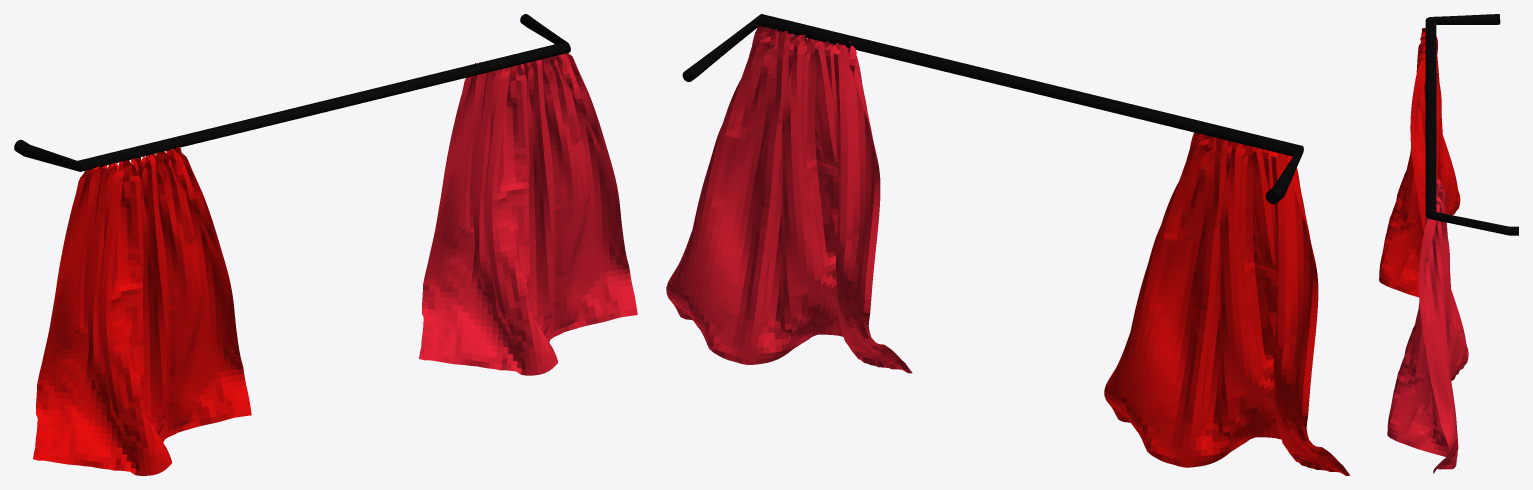
The model's file is PERDE 1.fbx.
3 views of the same model, side by side, from view 1: azimuth 30°, elevation 25°; view 2: azimuth 150°, elevation 25°; view 3: azimuth 270°, elevation 25° (orthographic). The views are drawn at different scales.
Visible parts, largest first — view 1: printvertexes; view 2: printvertexes; view 3: printvertexes.
Part boxes in pixels (bbox=[...]): printvertexes: bbox=[14, 14, 637, 475]; printvertexes: bbox=[666, 14, 1350, 475]; printvertexes: bbox=[1379, 14, 1518, 473].
Bounding box in the file's own units: 417 × 202 × 102.
